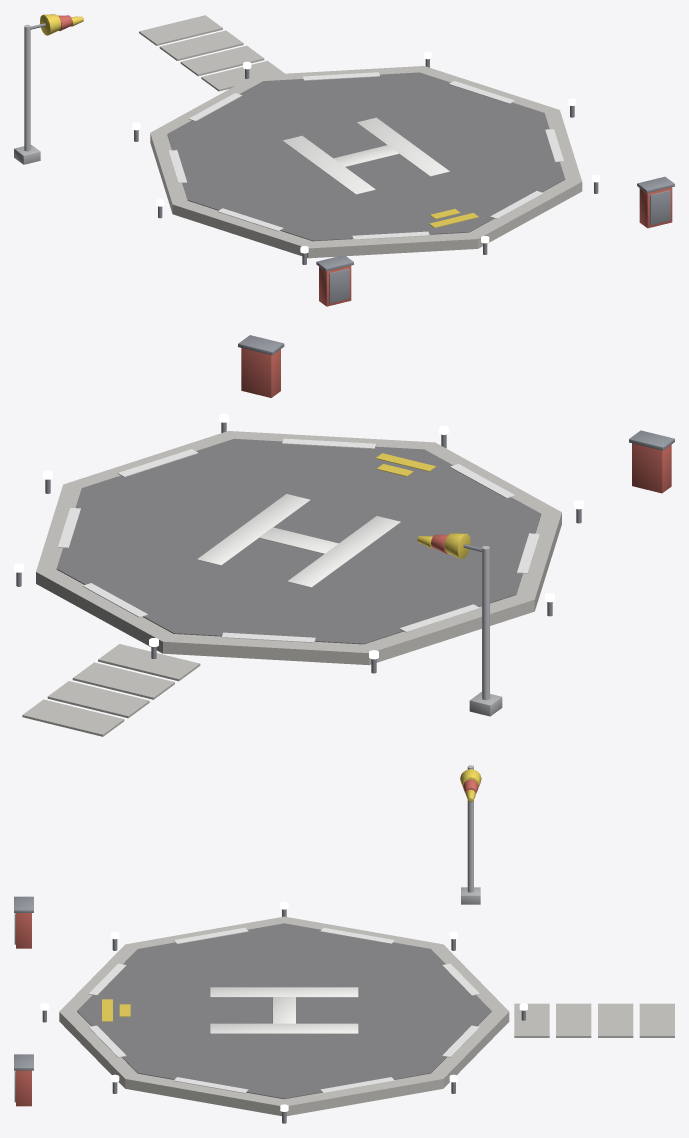
File: th49_helilandeplatz.glb
3 renders of one model, top to bottom at view 1: azimuth 30°, elevation 25°; view 2: azimuth 150°, elevation 25°; view 3: azimuth 270°, elevation 25°, orthographic. The views are drawn at different scales.
Parts seen in each view (by area): view 1: Cylinder.001, Cylinder, Cube.008, Cube.009, Cube.022, Cube.023, Cube.021, Cube.020, Cylinder.018, Cube.010, Cube.018, Cube.015 (+2 smaller); view 2: Cylinder.001, Cylinder, Cube.008, Cube.009, Cube.021, Cube.022, Cube.023, Cube.020, Cube.014, Cube.017, Cylinder.018, Cube.010; view 3: Cylinder.001, Cylinder, Cube.009, Cube.008, Cube.021, Cube.022, Cube.023, Cube.020, Cylinder.018, Cube.010, Cube.017, Cube.014.
Part boxes in pixels (x1,y1,x2,y2): Cylinder.001: (167, 72, 565, 241); Cylinder: (150, 66, 582, 258); Cube.008: (282, 135, 375, 194); Cube.009: (356, 117, 449, 176); Cube.022: (159, 30, 243, 60); Cube.023: (139, 15, 222, 45); Cube.021: (180, 45, 264, 76); Cube.020: (201, 61, 284, 91); Cylinder.018: (24, 24, 30, 151); Cube.010: (333, 145, 398, 166); Cube.018: (650, 190, 670, 225); Cube.015: (329, 268, 349, 303); Cylinder.001: (56, 438, 541, 644); Cylinder: (36, 431, 561, 665); Cube.008: (287, 516, 400, 587); Cube.009: (197, 494, 310, 565); Cube.021: (72, 662, 174, 699); Cube.022: (47, 681, 149, 718); Cube.023: (22, 699, 124, 736); Cube.020: (98, 644, 200, 681); Cube.014: (632, 443, 671, 493); Cube.017: (241, 348, 280, 397); Cylinder.018: (482, 546, 489, 699); Cube.010: (259, 527, 338, 553); Cylinder.001: (77, 923, 491, 1099); Cylinder: (59, 916, 509, 1116); Cube.009: (210, 1023, 358, 1033); Cube.008: (210, 987, 358, 997); Cube.021: (556, 1003, 591, 1037); Cube.022: (598, 1003, 633, 1037); Cube.023: (639, 1003, 674, 1037); Cube.020: (514, 1003, 549, 1037); Cylinder.018: (467, 765, 473, 892); Cube.010: (272, 997, 295, 1023); Cube.017: (16, 1070, 31, 1106); Cube.014: (16, 913, 31, 948).
Size of the model in its own units: 16.79 by 4.82 by 20.56.
